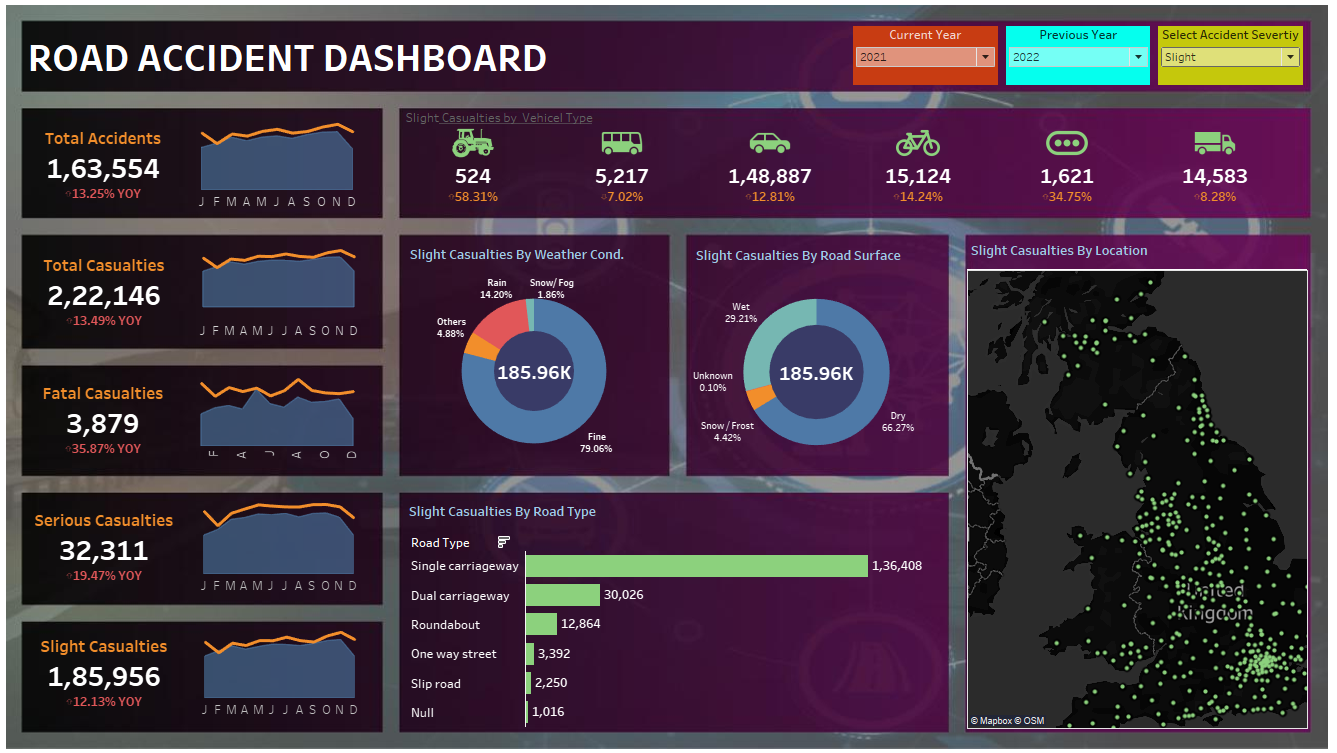

Layout of this report page (visuals, bound fields, positions):
{"tool":"tableau","page":{"name":"Dashboard 1","canvas":[1366,768],"ordinal":0},"visuals":[{"type":"image","param":"C:/Users/raiof/Downloads/Background.pptx.jpg","box":[8,8,1350,752]},{"type":"text","box":[41,27,572,71]},{"type":"parameter","param":"[Parameters].[Parameter 1]","box":[865,29,152.7,67]},{"type":"parameter","param":"[Parameters].[Current Year (copy)_382243027302735873]","box":[1017.7,29,152.7,67]},{"type":"parameter","param":"[Parameters].[Parameter 2]","box":[1170.3,29,152.7,67]},{"type":"text","box":[419,118,237,13]},{"type":"worksheet","title":"Total Accidents","mark":"Automatic","box":[31,122,175,100]},{"type":"worksheet","title":"Accident Sparkline","mark":"Automatic","rows":["CY Accidents (copy)_382243027303747586","Calculation_382243027299733504"],"cols":["Accident Date"],"box":[206,122,174,100]},{"type":"worksheet","title":"Vehicel Type Images","mark":"Shape","box":[411,129,898,38]},{"type":"worksheet","title":"Vehicle Type KPI","mark":"Automatic","box":[411,167,898,50]},{"type":"worksheet","title":"Weather Condition","mark":"Pie","rows":["Calculation_1070167871707688961","Calculation_1070167871707758595"],"box":[418,244,264,235]},{"type":"worksheet","title":"Locations","mark":"Automatic","rows":["Latitude"],"cols":["Longitude"],"box":[983,244,341,492]},{"type":"worksheet","title":"Road Surface ","mark":"Pie","rows":["Calculation_1070167871707688961","Calculation_1070167871707758595"],"box":[704,245,257,235]},{"type":"worksheet","title":"Total Casualties","mark":"Automatic","box":[31,246,177,105]},{"type":"worksheet","title":"Total Casualties Sparkline","mark":"Automatic","rows":["CY Casualties (copy)_382243027310837766","Calculation_382243027309981701"],"cols":["Accident Date"],"box":[208,246,172.9,105]},{"type":"worksheet","title":"Fatal Casualties","mark":"Automatic","box":[31,377,175,100]},{"type":"worksheet","title":"Fatal Sparkline","mark":"Automatic","rows":["CY Fatal Casualties (copy)_1251437756614782977","Calculation_1251437756613603328"],"cols":["Accident Date"],"box":[206,377,173.9,100]},{"type":"worksheet","title":"Serious Casualties","mark":"Automatic","box":[31,502,178,104]},{"type":"worksheet","title":"Serious Sparkline","mark":"Automatic","rows":["PY Fatal Casualties  (copy)_1251437756616232964","CY Fatal Casualties (copy)_1251437756615897091"],"cols":["Accident Date"],"box":[209,502,171,104]},{"type":"worksheet","title":"Road Type","mark":"Automatic","rows":["Road_Type"],"cols":["Calculation_382243027309981701"],"box":[421,505,539,229]},{"type":"worksheet","title":"Slight Casualties","mark":"Automatic","box":[31,630,179,100]},{"type":"worksheet","title":"Slight Sparkline","mark":"Automatic","rows":["PY Serious Casualties (copy)_1251437756617277447","CY Serious Casualties  (copy)_1251437756617121798"],"cols":["Accident Date"],"box":[210,630,171,100]}]}

Visuals, with their boxes in screenshot pixels (x1, y1, x2, y2), scaled from the page's 1366x768 canvas onto the 1337x753 screenshot:
image: x1=8, y1=8, x2=1329, y2=745
text: x1=40, y1=26, x2=600, y2=96
parameter: x1=847, y1=28, x2=996, y2=94
parameter: x1=996, y1=28, x2=1146, y2=94
parameter: x1=1145, y1=28, x2=1295, y2=94
text: x1=410, y1=116, x2=642, y2=128
"Total Accidents" worksheet: x1=30, y1=120, x2=202, y2=218
"Accident Sparkline" worksheet: x1=202, y1=120, x2=372, y2=218
"Vehicel Type Images" worksheet (Shape marks): x1=402, y1=126, x2=1281, y2=164
"Vehicle Type KPI" worksheet: x1=402, y1=164, x2=1281, y2=213
"Weather Condition" worksheet (Pie marks): x1=409, y1=239, x2=668, y2=470
"Locations" worksheet: x1=962, y1=239, x2=1296, y2=722
"Road Surface " worksheet (Pie marks): x1=689, y1=240, x2=941, y2=471
"Total Casualties" worksheet: x1=30, y1=241, x2=204, y2=344
"Total Casualties Sparkline" worksheet: x1=204, y1=241, x2=373, y2=344
"Fatal Casualties" worksheet: x1=30, y1=370, x2=202, y2=468
"Fatal Sparkline" worksheet: x1=202, y1=370, x2=372, y2=468
"Serious Casualties" worksheet: x1=30, y1=492, x2=205, y2=594
"Serious Sparkline" worksheet: x1=205, y1=492, x2=372, y2=594
"Road Type" worksheet: x1=412, y1=495, x2=940, y2=720
"Slight Casualties" worksheet: x1=30, y1=618, x2=206, y2=716
"Slight Sparkline" worksheet: x1=206, y1=618, x2=373, y2=716
